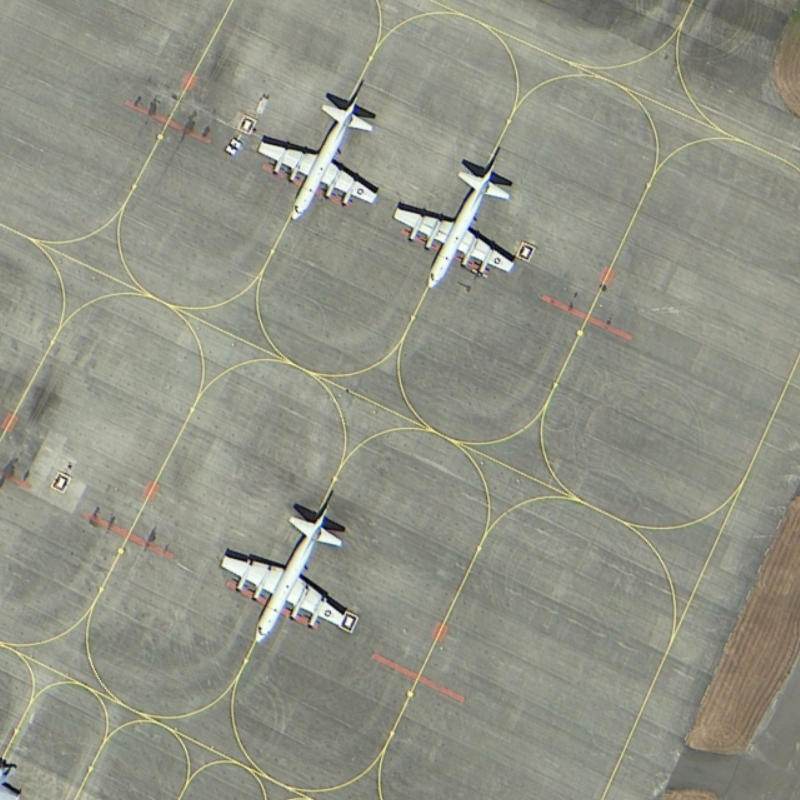A9: (211, 483, 354, 653), (243, 73, 383, 233), (389, 144, 526, 298)
